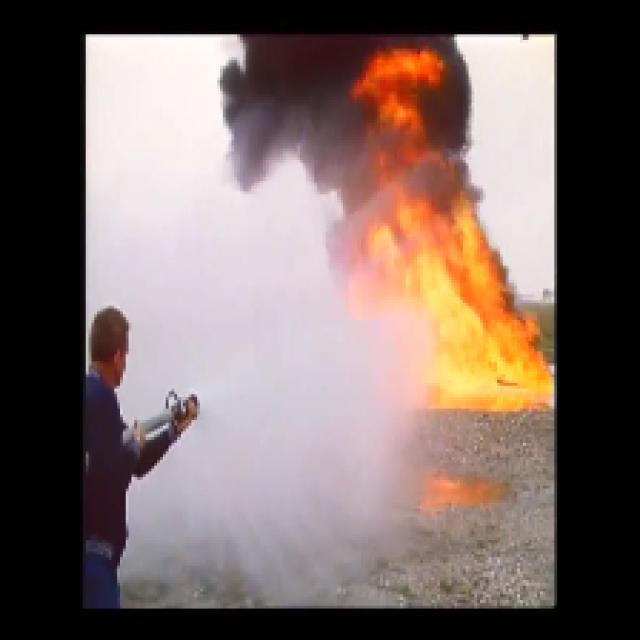fire: (438, 247, 538, 393)
smoke: (256, 36, 357, 158)
